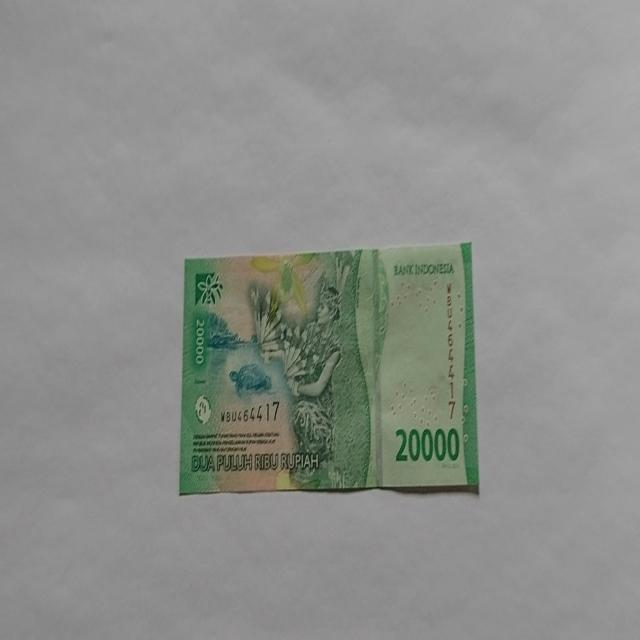dua puluh ribu rupiah: (178, 240, 480, 497)
